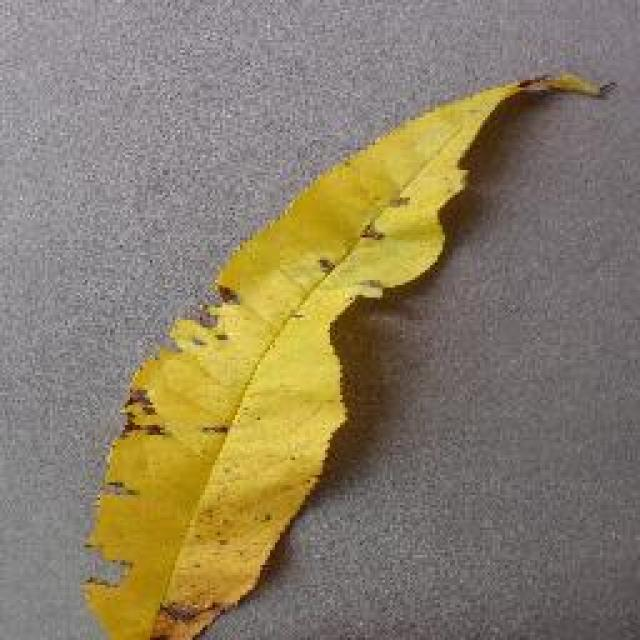Peach_Bacterial_Spot: (143, 194, 440, 548)
